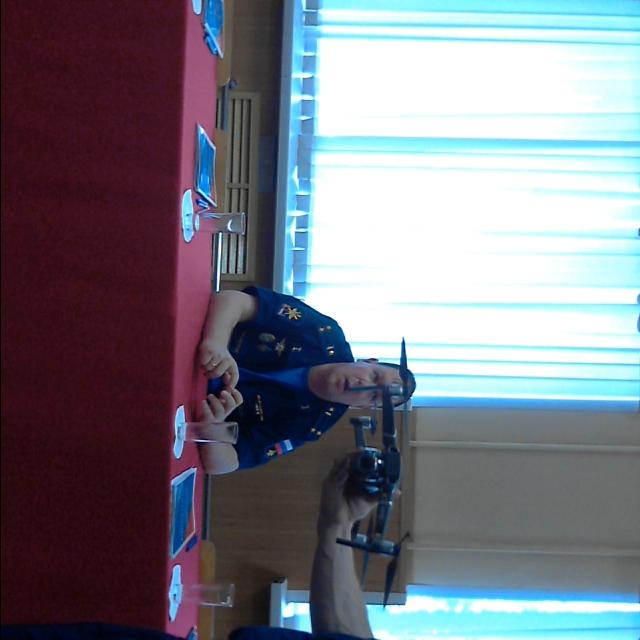drone: (322, 353, 440, 591)
